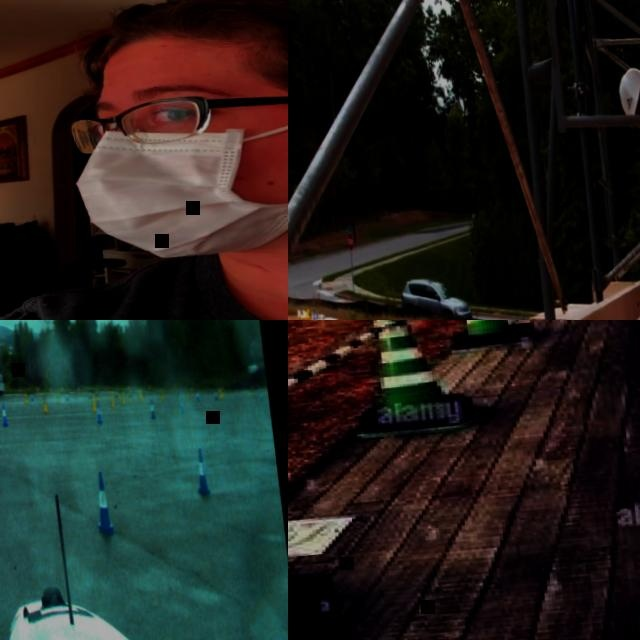Hardhat: (616, 63, 640, 127)
Mask: (65, 103, 288, 272)
NO-Hardhat: (94, 0, 288, 102)
NO-Safety Vest: (0, 221, 288, 320)
Person: (0, 0, 288, 320)
Safety Cone: (288, 396, 365, 640), (340, 320, 473, 441), (432, 320, 538, 356), (89, 467, 114, 534), (191, 446, 210, 495), (94, 399, 102, 423), (0, 400, 7, 425), (147, 396, 155, 417), (108, 389, 115, 407), (178, 394, 185, 412), (41, 393, 47, 412), (136, 384, 143, 400), (193, 385, 200, 400), (126, 387, 133, 401), (119, 387, 125, 402), (90, 393, 95, 409), (158, 385, 164, 398), (140, 383, 146, 395), (258, 385, 263, 399), (93, 387, 98, 400), (63, 388, 68, 400), (212, 386, 217, 397), (22, 391, 27, 402), (28, 390, 33, 401), (86, 386, 91, 397), (219, 384, 224, 394), (55, 390, 59, 402), (217, 385, 221, 396), (47, 383, 52, 391), (35, 385, 39, 392), (18, 384, 21, 393), (76, 383, 79, 391)
vehicle: (396, 271, 471, 320)
